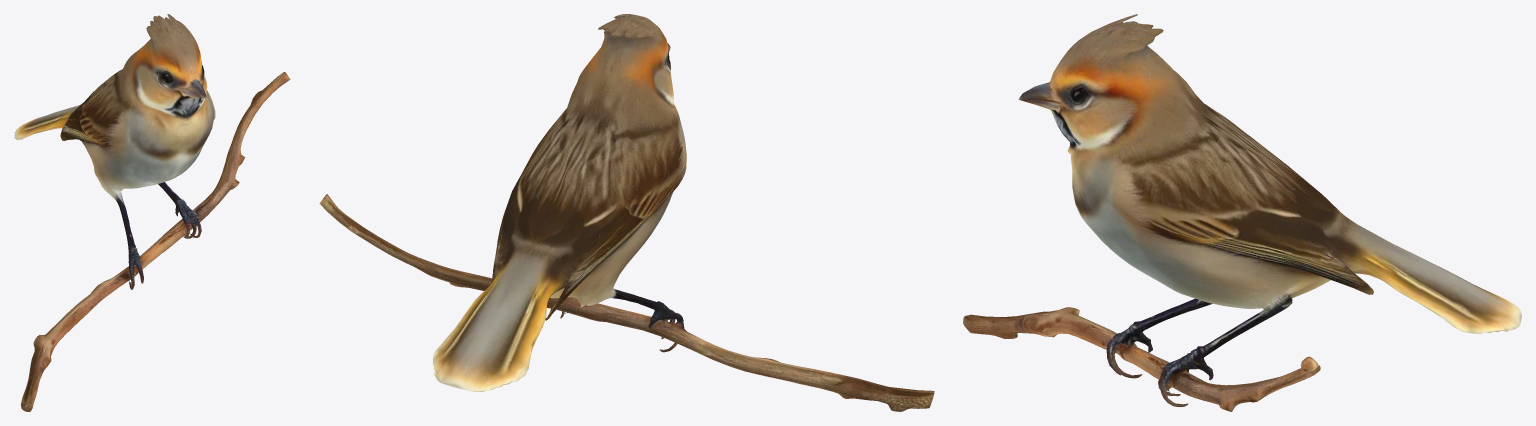
File: bird-goudhaantje.glb
3 views of the same model, side by side, from view 1: azimuth 30°, elevation 25°; view 2: azimuth 150°, elevation 25°; view 3: azimuth 270°, elevation 25° (orthographic). The views are drawn at different scales.
Bounding box in the file's own units: 1.91 × 1.49 × 1.66.
1 material, 1 textured.
